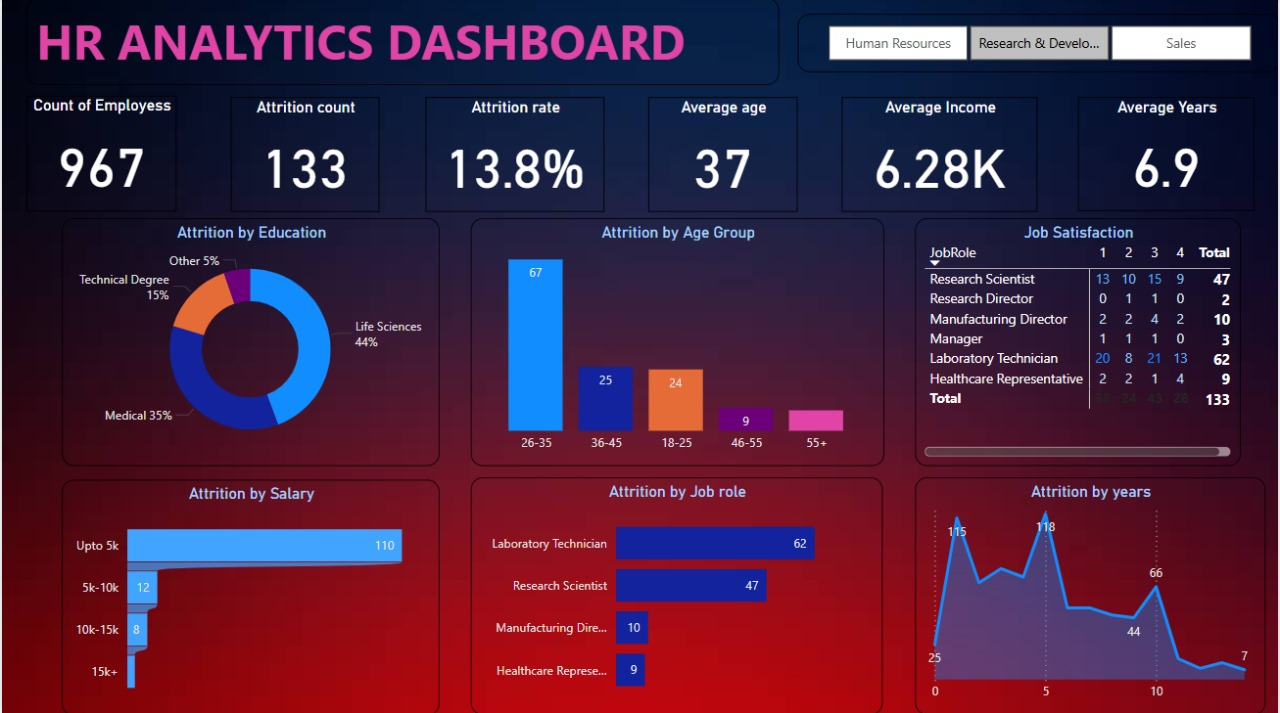

This screenshot's page, from the dashboard's own definition file:
{"tool":"powerbi","page":{"name":"Page 1","canvas":[1280,720],"ordinal":0},"visuals":[{"type":"card","title":"Count of Employess","fields":{"Values":["Sum(HR_Analytics.EmployeeCount)"]},"box":[24.3,98.6,150,115.7],"z":0},{"type":"card","title":"Attrition count","fields":{"Values":["Sum(HR_Analytics.Attrition count)"]},"box":[229.4,99.4,148.5,115.3],"z":1000},{"type":"card","title":"Attrition rate","fields":{"Values":["HR_Analytics.Attrition rate"]},"box":[424.5,99.4,179.1,115.3],"z":2000},{"type":"card","title":"Average age","fields":{"Values":["HR_Analytics.Average age"]},"box":[647.9,99.4,149.7,115.3],"z":3000},{"type":"card","title":"Average Income","fields":{"Values":["Avg(HR_Analytics.MonthlyIncome)"]},"box":[841.7,99.4,196.3,115.3],"z":4000},{"type":"card","title":"Average Years","fields":{"Values":["Avg(HR_Analytics.YearsAtCompany)"]},"box":[1078.6,100,177.1,114.3],"z":6000},{"type":"donutChart","title":"Attrition by Education","fields":{"Y":["Sum(HR_Analytics.Attrition count)"],"Category":["HR_Analytics.EducationField"]},"box":[60,221.4,378.6,248.6],"z":7000},{"type":"columnChart","title":"Attrition by Age Group","fields":{"Y":["Sum(HR_Analytics.Attrition count)"],"Category":["HR_Analytics.AgeGroup"],"Series":["HR_Analytics.AgeGroup"]},"box":[470,221.4,414.3,248.6],"z":8000},{"type":"pivotTable","title":"Job Satisfaction","fields":{"Rows":["HR_Analytics.JobRole"],"Columns":["HR_Analytics.JobSatisfaction"],"Values":["Sum(HR_Analytics.Attrition count)"]},"box":[915.7,221.4,325.7,248.6],"z":9000},{"type":"barChart","title":"Attrition by Salary","fields":{"Category":["HR_Analytics.SalarySlab"],"Y":["Sum(HR_Analytics.Attrition count)"]},"box":[60,482.9,378.6,237.1],"z":10000},{"type":"barChart","title":"Attrition by Job role","fields":{"Series":["HR_Analytics.Attrition count"],"Y":["Sum(HR_Analytics.Attrition count)"],"Category":["HR_Analytics.JobRole"]},"box":[470,481.4,412.9,238.6],"z":11000},{"type":"areaChart","title":"Attrition by years","fields":{"Category":["HR_Analytics.YearsAtCompany"],"Y":["CountNonNull(HR_Analytics.JobRole)"]},"box":[929.1,481.9,350.6,238.1],"z":12000},{"type":"slicer","fields":{"Values":["HR_Analytics.Department"]},"box":[797.1,15.7,482.9,58.6],"z":13000},{"type":"textbox","box":[24.3,0,754.3,87.1],"z":14000}]}

Visuals, with their boxes in screenshot pixels (x1, y1, x2, y2), scaled from the page's 1280x720 canvas onto the 1280x713 screenshot:
"Count of Employess" card: [24, 98, 174, 212]
"Attrition count" card: [229, 98, 378, 213]
"Attrition rate" card: [424, 98, 604, 213]
"Average age" card: [648, 98, 798, 213]
"Average Income" card: [842, 98, 1038, 213]
"Average Years" card: [1079, 99, 1256, 212]
"Attrition by Education" donutChart: [60, 219, 439, 465]
"Attrition by Age Group" columnChart: [470, 219, 884, 465]
"Job Satisfaction" pivotTable: [916, 219, 1241, 465]
"Attrition by Salary" barChart: [60, 478, 439, 712]
"Attrition by Job role" barChart: [470, 477, 883, 712]
"Attrition by years" areaChart: [929, 477, 1279, 712]
slicer - HR_Analytics.Department: [797, 16, 1279, 74]
textbox: [24, 0, 779, 86]
